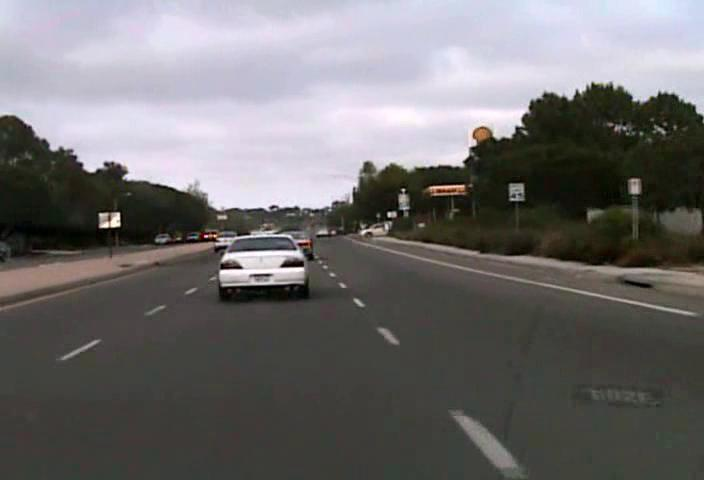speedLimit45: (508, 182, 525, 202)
